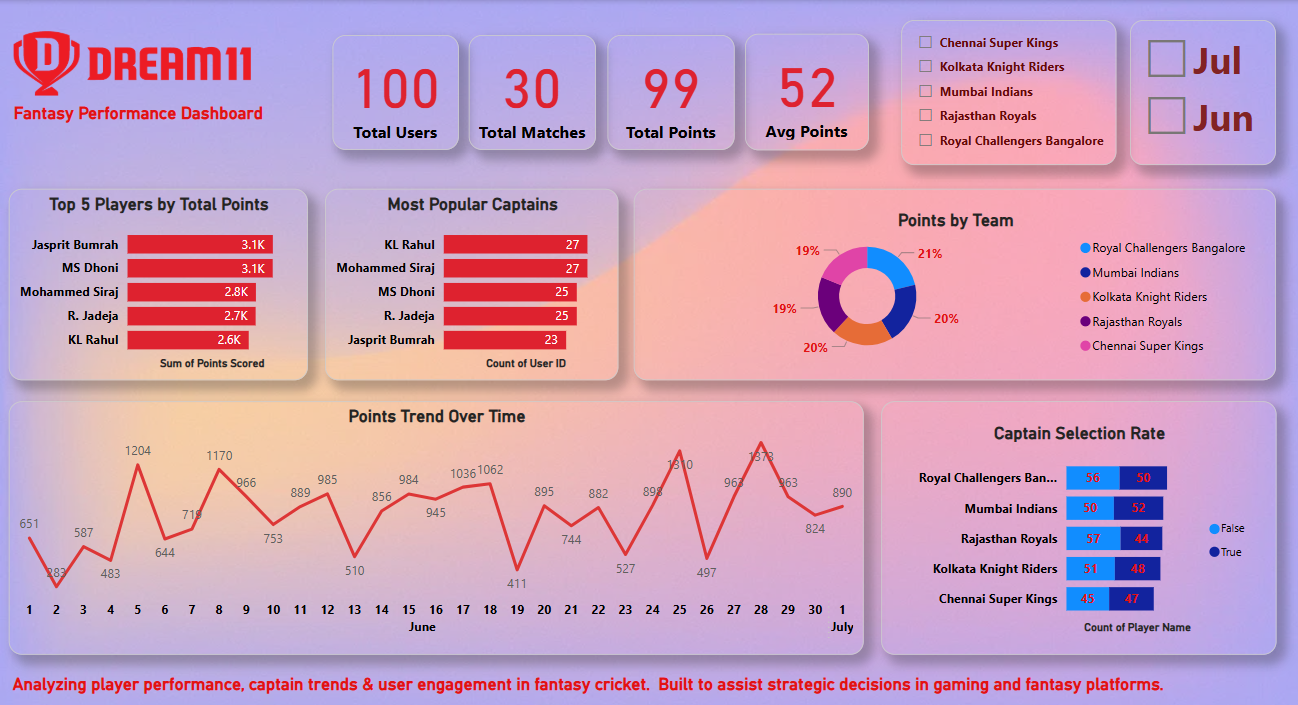

The page's visual inventory and layout, read from the dashboard file:
{"tool":"powerbi","page":{"name":"Page 1","canvas":[1280,720],"ordinal":0},"visuals":[{"type":"card","fields":{"Values":["Sheet1.User ID"]},"box":[326.3,34.1,123.9,112.9],"z":0},{"type":"card","fields":{"Values":["Sheet1.Match ID"]},"box":[460.4,34.1,125.2,112.9],"z":1000},{"type":"card","fields":{"Values":["Sheet1.Points Scored"]},"box":[595.8,34.1,125.2,112.9],"z":2000},{"type":"card","fields":{"Values":["Sheet1.Points Scored"]},"box":[731.2,33.5,121.5,114.1],"z":3000},{"type":"barChart","title":"Top 5 Players by Total Points","fields":{"Category":["Sheet1.Player Name"],"Y":["Sheet1.Points Scored"]},"box":[8.6,185.3,293.3,187.7],"z":4000},{"type":"image","box":[8.6,9.8,242.9,105.5],"z":5000},{"type":"barChart","title":"Most Popular Captains","fields":{"Category":["Sheet1.Player Name"],"Y":["Sheet1.User ID"]},"box":[319,185.3,288.3,187.7],"z":6000},{"type":"lineChart","title":"Points Trend Over Time","fields":{"Category":["Sheet1.Match Date.Variation.Date Hierarchy.Month","Sheet1.Match Date.Variation.Date Hierarchy.Day"],"Y":["Sheet1.Points Scored"]},"box":[8.6,393.9,839.3,249.1],"z":7000},{"type":"donutChart","title":"Points by Team","fields":{"Y":["Sheet1.Points Scored"],"Category":["Sheet1.Team"]},"box":[622.1,185.3,630.7,187.7],"z":8000},{"type":"slicer","fields":{"Values":["Sheet1.Team"]},"box":[884.7,19.6,211,142.3],"z":9000},{"type":"slicer","fields":{"Values":["Sheet1.Month"]},"box":[1109.2,19.6,143.6,142.3],"z":10000},{"type":"barChart","title":"Captain Selection Rate","fields":{"Category":["Sheet1.Team"],"Series":["Sheet1.Captain"],"Y":["Sheet1.Player Name"]},"box":[865,393.9,387.7,249.1],"z":11000},{"type":"textbox","box":[8.6,95.7,266.3,39.3],"z":12000},{"type":"textbox","box":[7.4,656.4,1244.2,46.6],"z":13000}]}

Visuals, with their boxes on the page's 1280x720 design canvas (x1, y1, x2, y2). These are canvas units, not pixel positions in the 1298x705 screenshot, which may show the page scaled, cropped or inside an application window:
card - Sheet1.User ID: {"left": 326, "top": 34, "right": 450, "bottom": 147}
card - Sheet1.Match ID: {"left": 460, "top": 34, "right": 586, "bottom": 147}
card - Sheet1.Points Scored: {"left": 596, "top": 34, "right": 721, "bottom": 147}
card - Sheet1.Points Scored: {"left": 731, "top": 34, "right": 853, "bottom": 148}
"Top 5 Players by Total Points" barChart: {"left": 9, "top": 185, "right": 302, "bottom": 373}
image: {"left": 9, "top": 10, "right": 252, "bottom": 115}
"Most Popular Captains" barChart: {"left": 319, "top": 185, "right": 607, "bottom": 373}
"Points Trend Over Time" lineChart: {"left": 9, "top": 394, "right": 848, "bottom": 643}
"Points by Team" donutChart: {"left": 622, "top": 185, "right": 1253, "bottom": 373}
slicer - Sheet1.Team: {"left": 885, "top": 20, "right": 1096, "bottom": 162}
slicer - Sheet1.Month: {"left": 1109, "top": 20, "right": 1253, "bottom": 162}
"Captain Selection Rate" barChart: {"left": 865, "top": 394, "right": 1253, "bottom": 643}
textbox: {"left": 9, "top": 96, "right": 275, "bottom": 135}
textbox: {"left": 7, "top": 656, "right": 1252, "bottom": 703}
